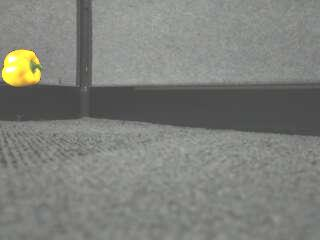Capsicum: (1, 50, 44, 87)
